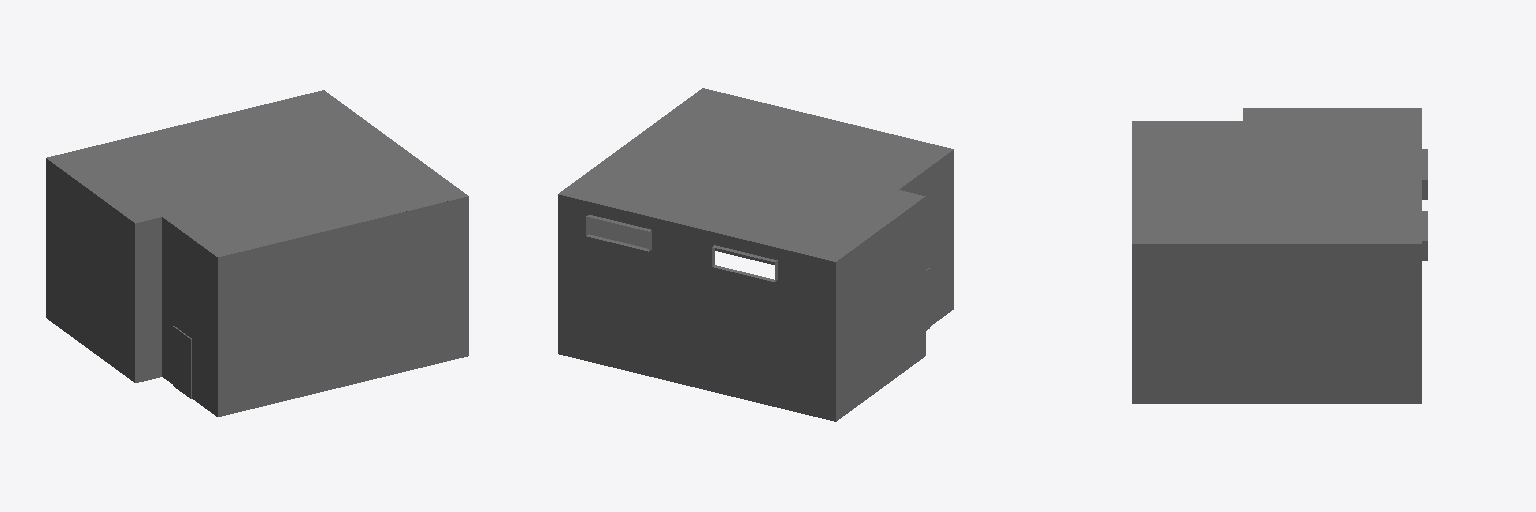
File: building.obj
3 views of the same model, side by side, from view 1: azimuth 30°, elevation 25°; view 2: azimuth 150°, elevation 25°; view 3: azimuth 270°, elevation 25° (orthographic).
Visible parts, largest first — view 1: pCube1 polySurface3 polySurface2, polySurface1 pCube1; view 2: pCube1 polySurface3 polySurface2; view 3: pCube1 polySurface3 polySurface2.
Part boxes in pixels (bbox=[...]): pCube1 polySurface3 polySurface2: bbox=[46, 90, 467, 416]; polySurface1 pCube1: bbox=[218, 196, 468, 416]; pCube1 polySurface3 polySurface2: bbox=[558, 88, 953, 421]; pCube1 polySurface3 polySurface2: bbox=[1132, 108, 1427, 403].
Size of the model in its own units: 26.99 by 14.82 by 24.85.